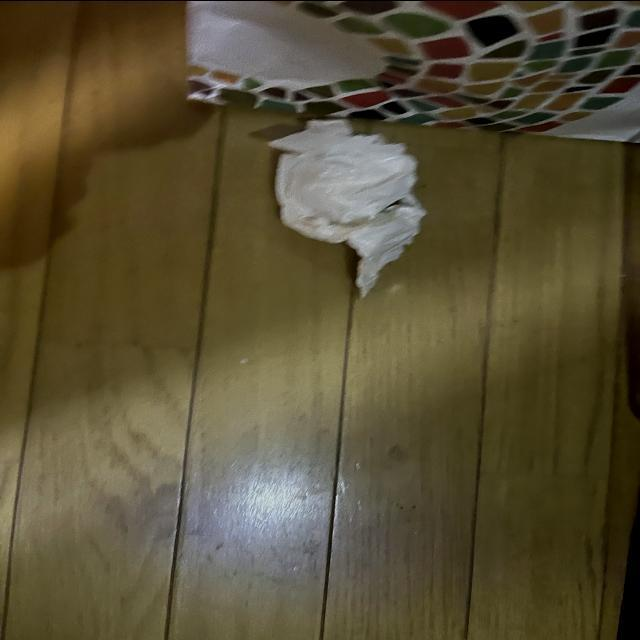Paper: (256, 114, 428, 290)
